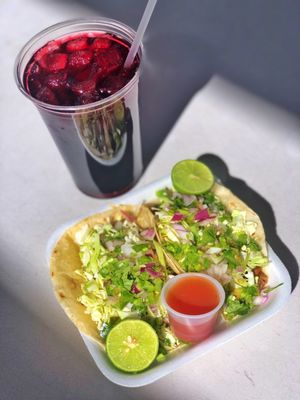curry: (222, 283, 260, 322)
pizza: (14, 16, 151, 200)
sushi: (46, 174, 288, 392)
